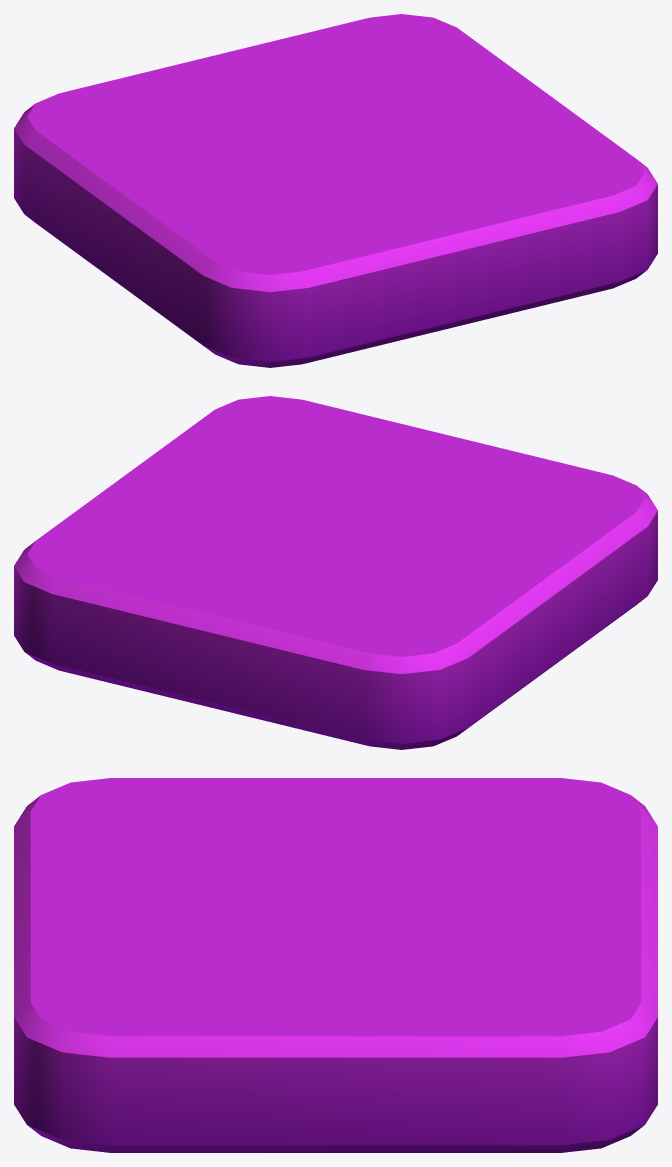
The model's file is tile-purple.glb.
3 renders of one model, top to bottom at view 1: azimuth 30°, elevation 25°; view 2: azimuth 150°, elevation 25°; view 3: azimuth 270°, elevation 25°, orthographic. The views are drawn at different scales.
Parts seen in each view (by area): view 1: tile_purple; view 2: tile_purple; view 3: tile_purple.
Boxes of the visible parts, x1,y1,x2,y2 form: tile_purple: [14, 14, 657, 367]; tile_purple: [14, 396, 657, 749]; tile_purple: [14, 778, 657, 1152].
Bounding box in the file's own units: 1 × 0.2 × 1.
Materials: 1 (1 with a texture image).
